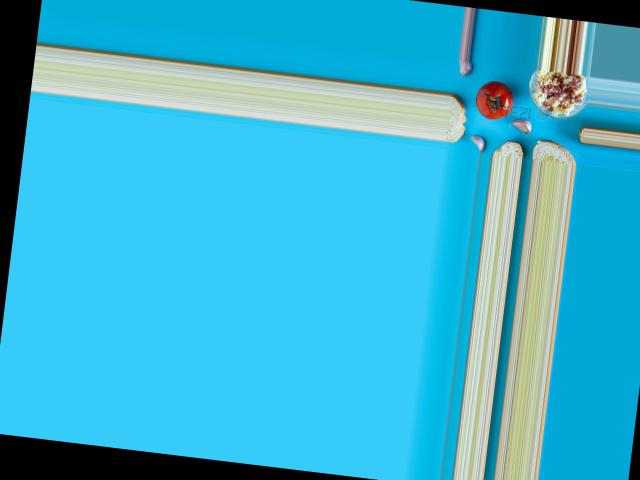tomato: (473, 78, 513, 121)
